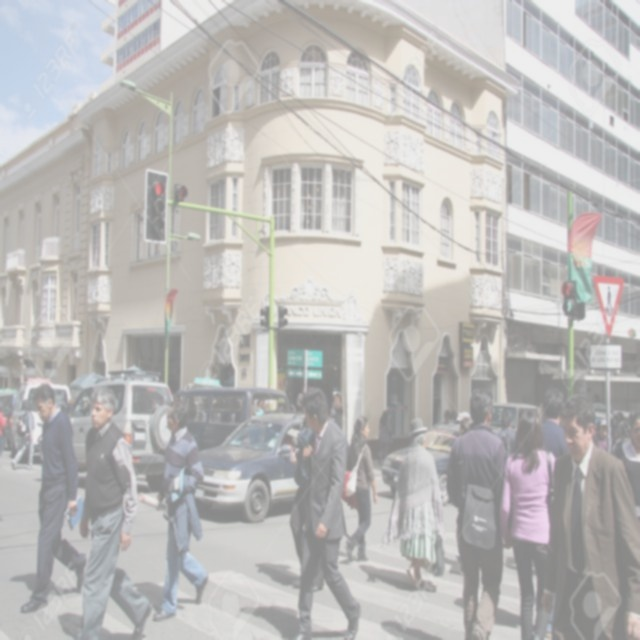pessoa: (540, 393, 640, 639), (76, 385, 154, 639), (284, 386, 362, 640), (445, 386, 515, 640), (137, 398, 210, 624), (19, 382, 88, 614), (498, 406, 562, 640), (398, 417, 446, 590), (289, 392, 325, 592), (338, 414, 379, 566), (612, 411, 640, 526), (184, 393, 266, 424), (592, 406, 640, 453), (540, 386, 570, 458), (10, 398, 36, 470), (494, 410, 517, 457), (377, 408, 392, 468), (272, 427, 297, 463), (454, 508, 466, 576), (148, 386, 166, 415), (331, 392, 344, 430), (0, 401, 8, 458), (289, 384, 305, 412), (458, 416, 474, 437), (442, 408, 460, 423), (66, 397, 76, 407)
